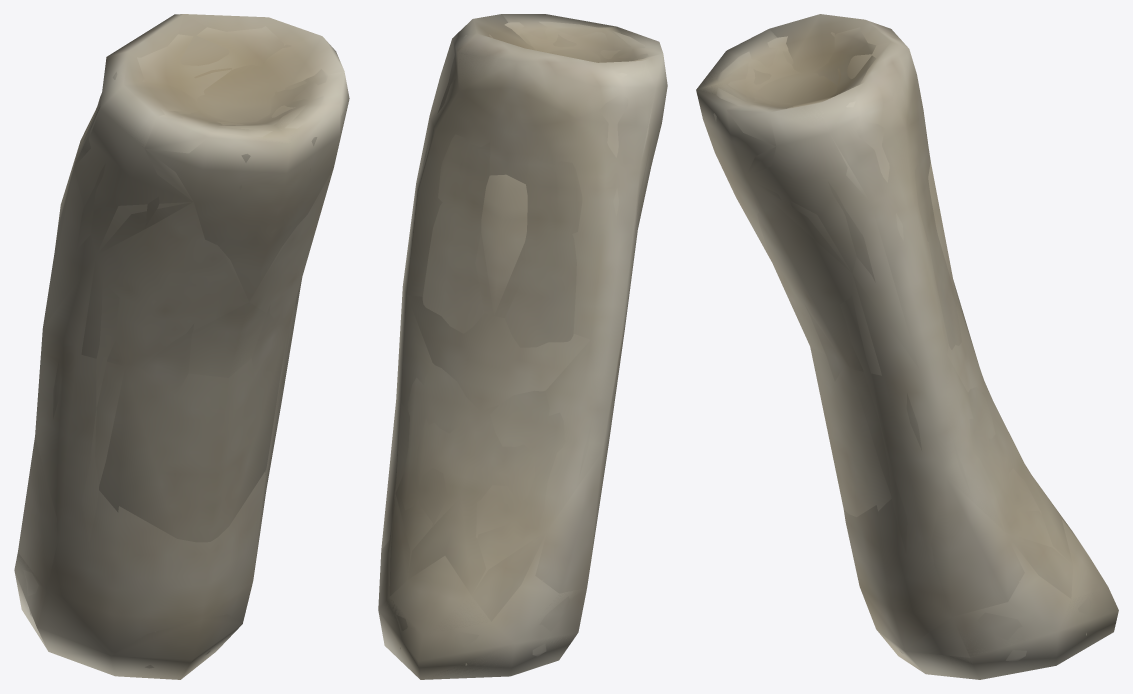
File: vertebrae caudales 14.fbx
3 renders of one model, left to right at view 1: azimuth 30°, elevation 25°; view 2: azimuth 150°, elevation 25°; view 3: azimuth 270°, elevation 25°, orthographic. The views are drawn at different scales.
Parts seen in each view (by area): view 1: vertebrae caudales 14, vertebrae caudales 14 low, vertebrae caudales 14 high; view 2: vertebrae caudales 14, vertebrae caudales 14 high, vertebrae caudales 14 low; view 3: vertebrae caudales 14, vertebrae caudales 14 low, vertebrae caudales 14 high.
Part boxes in pixels (bbox=[...]): vertebrae caudales 14: bbox=[14, 14, 348, 679]; vertebrae caudales 14 low: bbox=[15, 14, 349, 679]; vertebrae caudales 14 high: bbox=[23, 26, 327, 668]; vertebrae caudales 14: bbox=[378, 14, 667, 679]; vertebrae caudales 14 high: bbox=[386, 21, 652, 665]; vertebrae caudales 14 low: bbox=[379, 14, 667, 678]; vertebrae caudales 14: bbox=[696, 19, 1118, 679]; vertebrae caudales 14 low: bbox=[698, 14, 1098, 675]; vertebrae caudales 14 high: bbox=[713, 27, 1091, 661].
Bounding box in the file's own units: 0.6637 × 1.68 × 1.05.
1 material, 1 textured.
